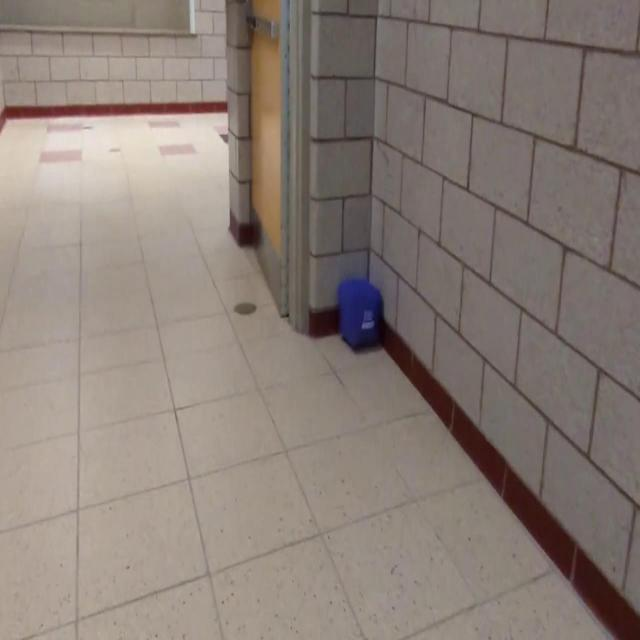frc_cube: (339, 276, 384, 354)
